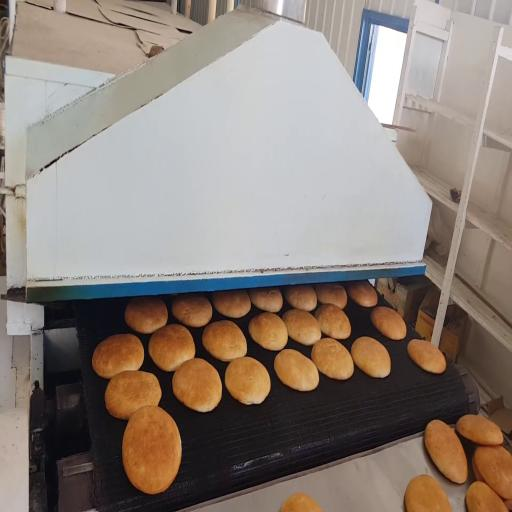bread: (122, 406, 181, 494), (424, 420, 467, 483), (105, 371, 161, 419), (173, 358, 221, 412), (92, 334, 144, 378), (149, 324, 195, 371), (225, 357, 270, 404), (474, 447, 511, 499), (274, 349, 319, 391), (202, 320, 246, 361), (312, 339, 353, 380), (405, 475, 451, 511), (351, 337, 390, 377), (125, 297, 167, 333), (249, 312, 287, 350), (456, 415, 503, 445), (283, 310, 321, 345), (408, 339, 446, 374), (172, 294, 212, 327), (315, 304, 351, 339), (466, 482, 507, 511), (371, 307, 406, 340), (212, 290, 250, 318), (284, 285, 317, 311), (248, 288, 282, 312), (346, 281, 377, 307), (315, 284, 347, 309), (281, 493, 322, 511), (472, 454, 483, 481)
